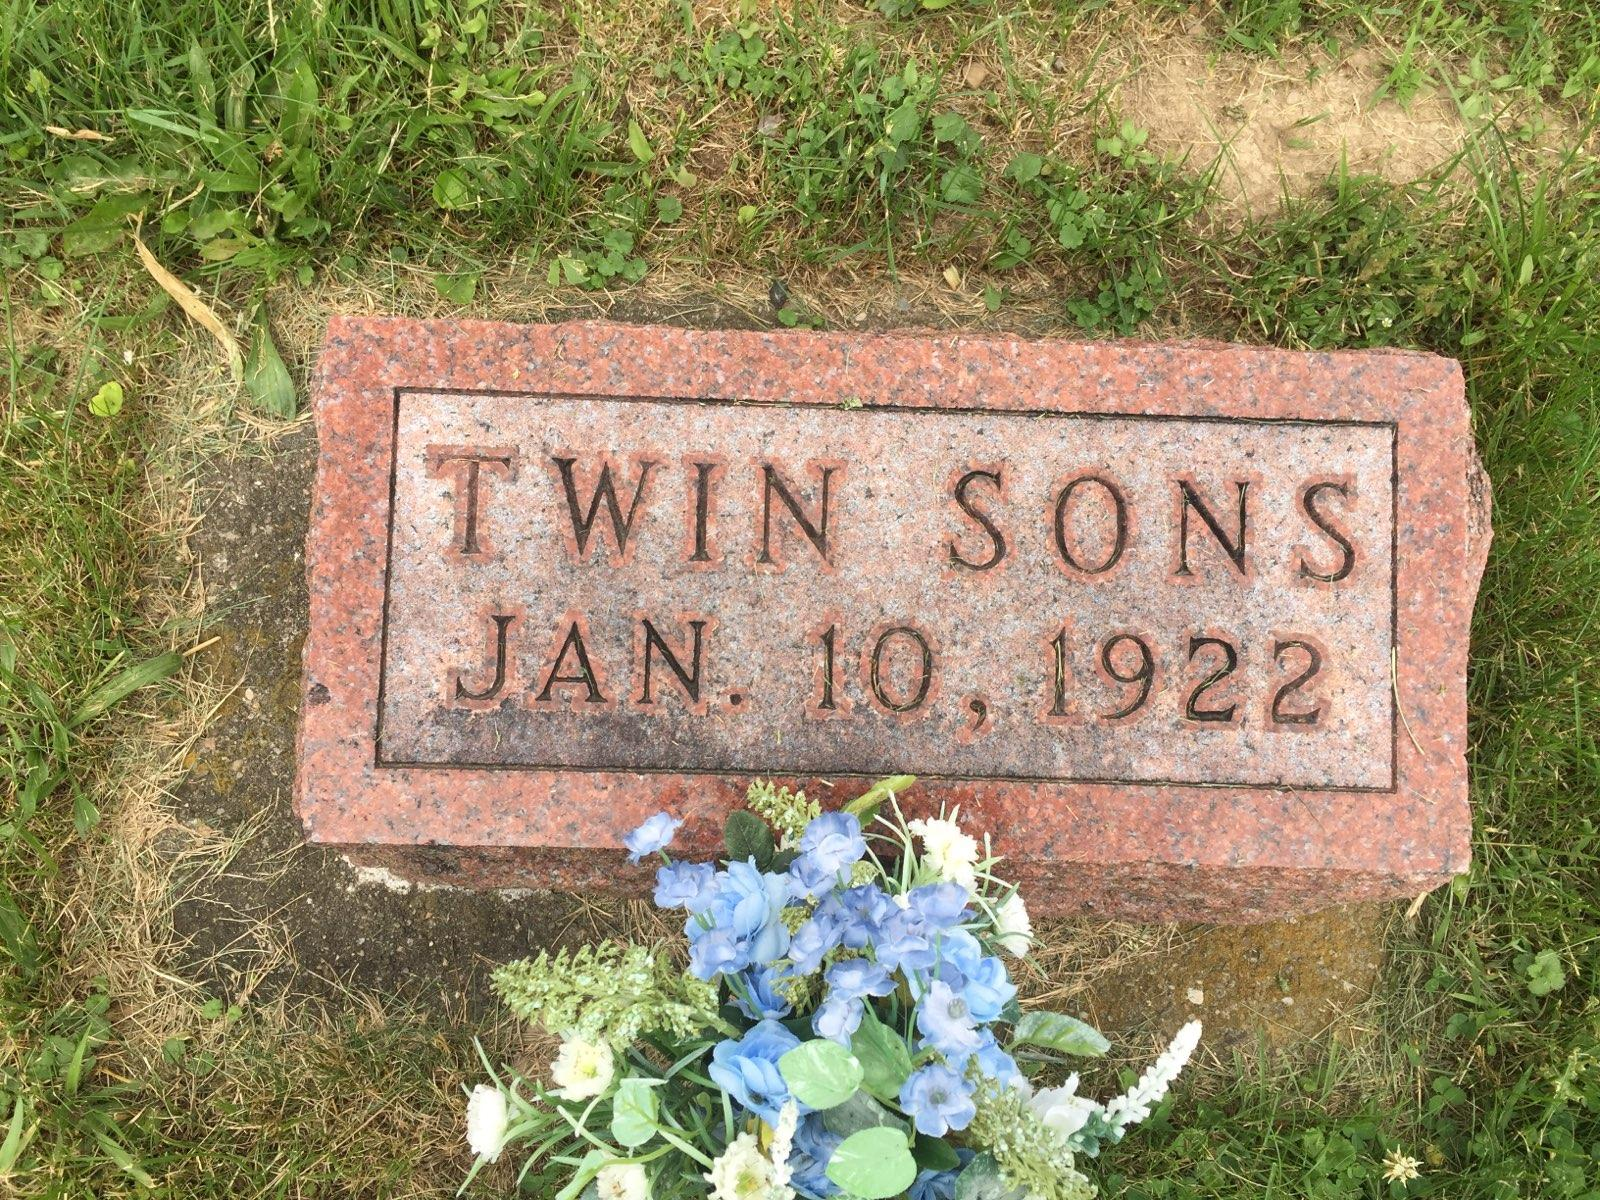flat: (227, 242, 1484, 958)
